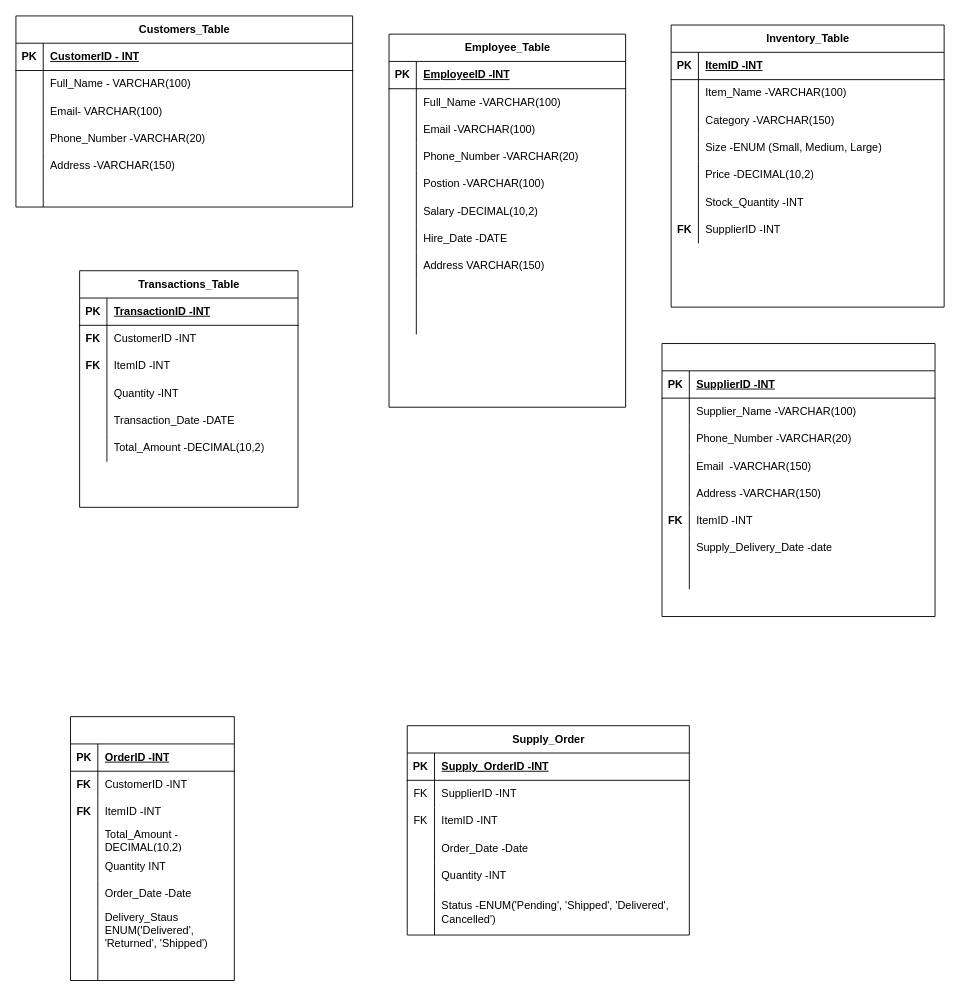
The diagram is 960 pixels wide and 996 high, and some of its shapes have lost their labels. The box of each missing label's shape, as (x1, y1, x2, y2) in pixels:
Orders_Table: (70, 716, 234, 981)
Supplier_Table: (661, 343, 935, 617)
